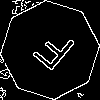F: (25, 25, 78, 80)
